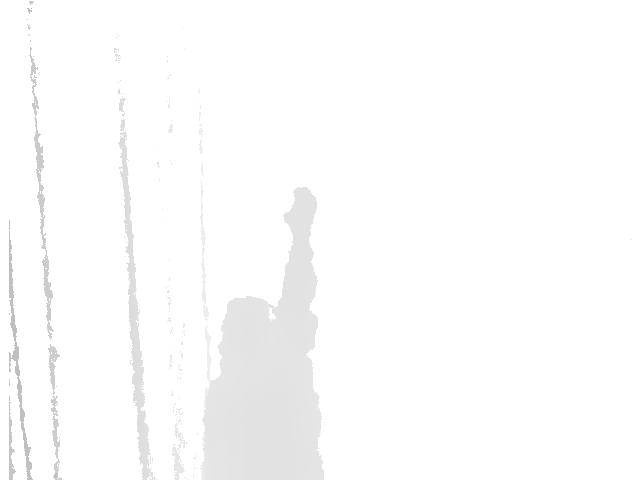hand: (282, 183, 320, 238)
head: (215, 295, 287, 374)
person: (200, 184, 326, 480)
